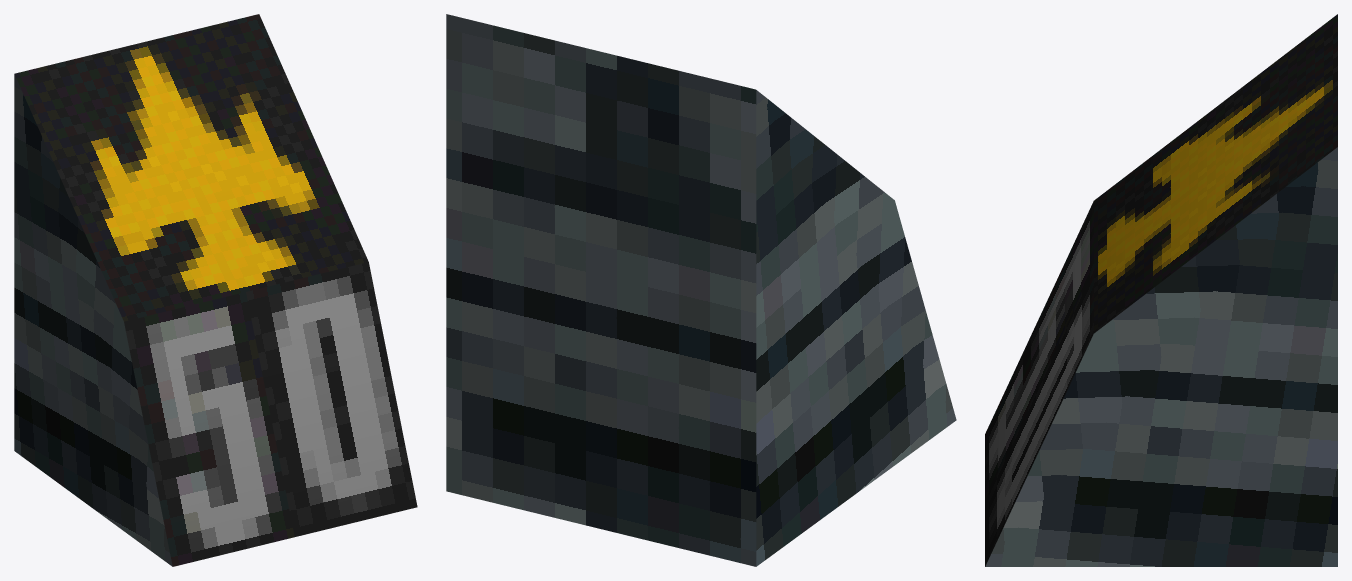
3 views of the same model, side by side, from view 1: azimuth 30°, elevation 25°; view 2: azimuth 150°, elevation 25°; view 3: azimuth 270°, elevation 25° (orthographic). The views are drawn at different scales.
Parts seen in each view (by area): view 1: Slim_obj_039; view 2: Slim_obj_039; view 3: Slim_obj_039.
Part boxes in pixels (x1,y1,x2,y2): Slim_obj_039: (14,14,417,566); Slim_obj_039: (446,14,956,566); Slim_obj_039: (985,14,1337,566).
Size of the model in its own units: 0.5996 by 0.8828 by 0.6719.
1 material, 1 textured.
